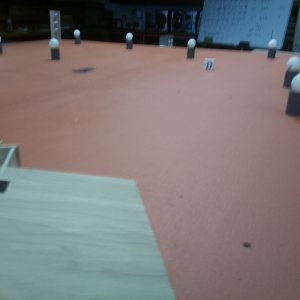blockD: (204, 57, 214, 71)
corner: (50, 10, 60, 38)
obstacle: (285, 56, 300, 85), (290, 74, 300, 115), (50, 38, 61, 61), (268, 39, 277, 59), (124, 32, 134, 48), (189, 39, 195, 59), (73, 29, 80, 43)
slope: (1, 170, 171, 299)
start: (71, 65, 96, 75)
